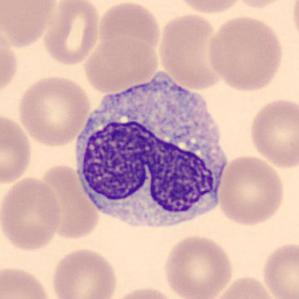Monocyte: (70, 64, 234, 240)
RBC: (204, 13, 286, 93), (15, 73, 92, 148), (215, 153, 287, 228), (156, 12, 225, 90), (0, 174, 64, 253), (160, 232, 235, 299), (82, 34, 160, 94), (41, 0, 102, 67), (95, 0, 163, 57), (49, 245, 120, 299), (247, 96, 298, 170), (0, 0, 60, 49), (0, 112, 34, 185), (259, 239, 299, 299), (0, 263, 57, 299), (209, 273, 279, 299), (0, 22, 21, 100), (173, 0, 247, 15), (108, 285, 178, 299), (230, 0, 295, 9), (289, 1, 299, 47)
